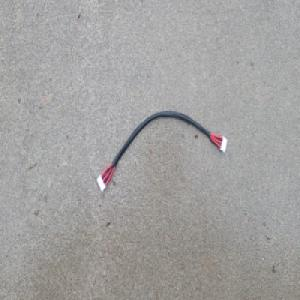Wire: (95, 108, 228, 193)
